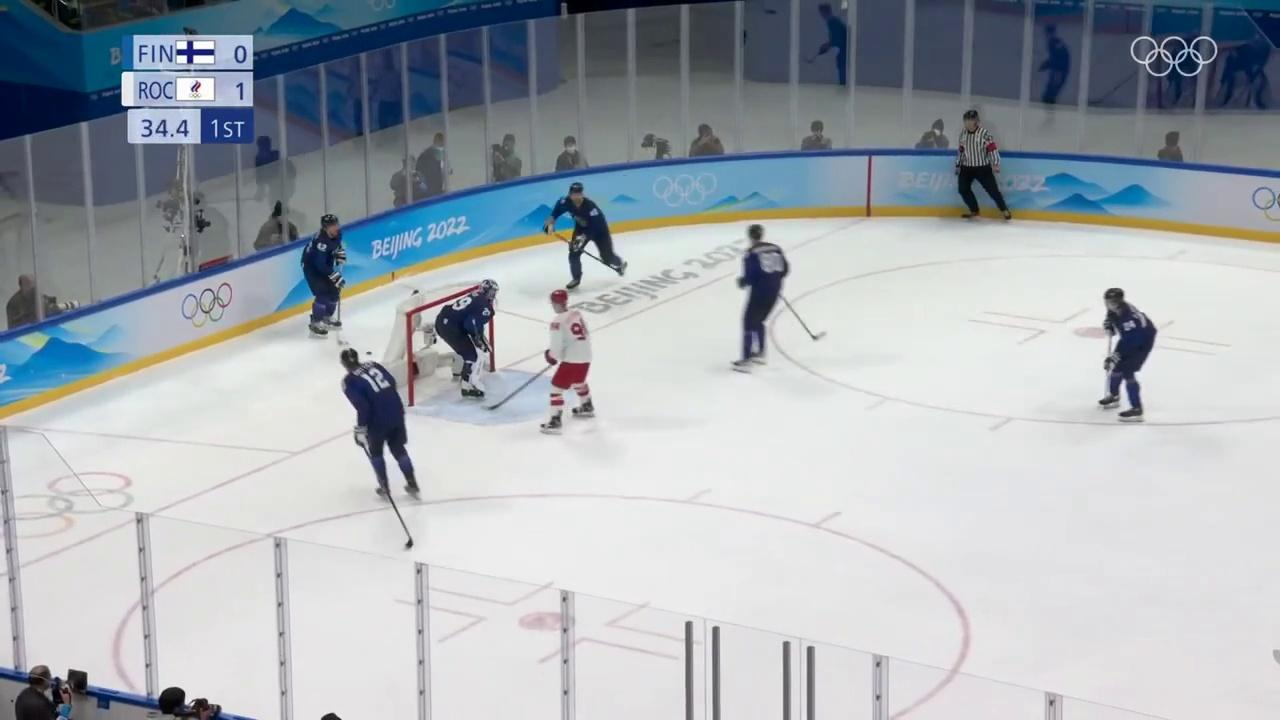ball: (366, 351, 373, 356)
